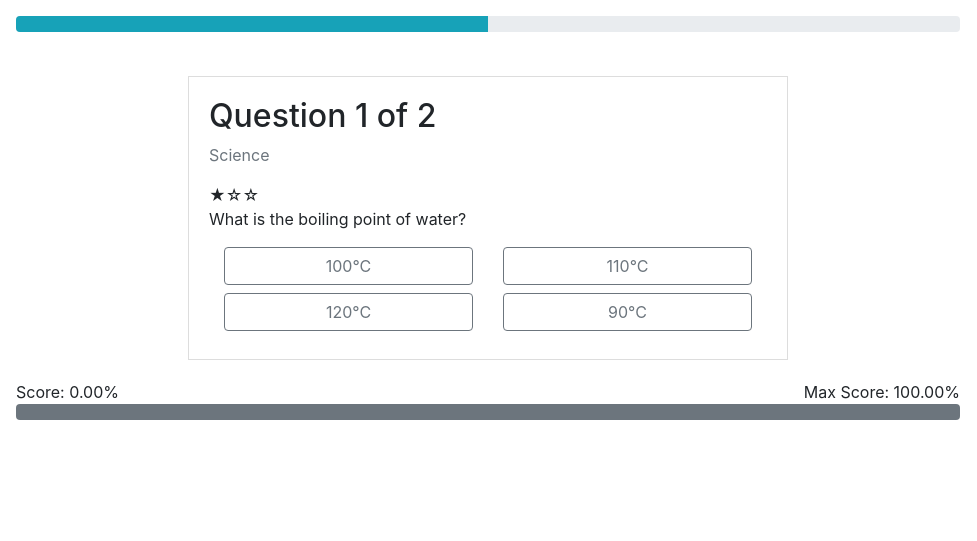
Test: QuestionComponent › displays the completion message at the end of the quiz
Click the button "100°C": (348, 266) [224, 247, 473, 285]
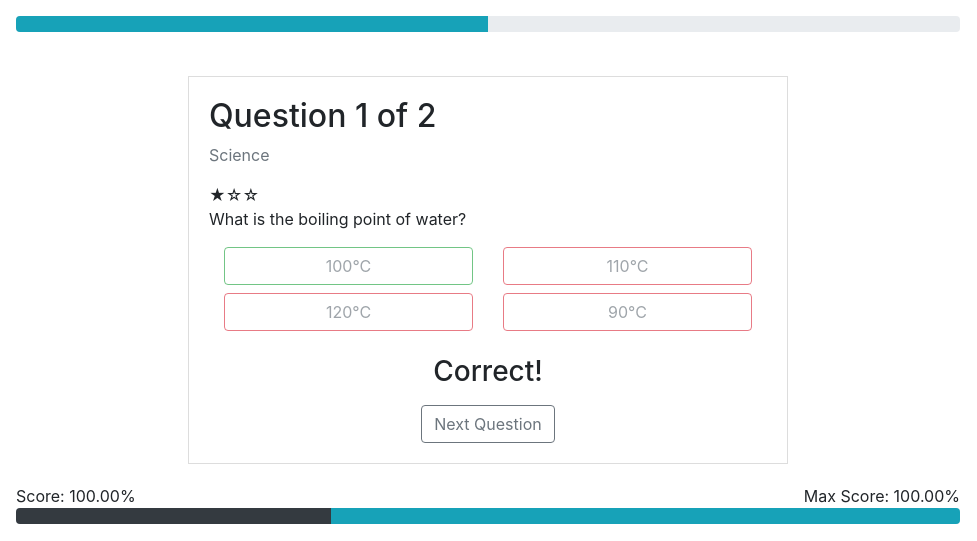
Click the button "Next Question": (488, 424) [421, 405, 555, 443]
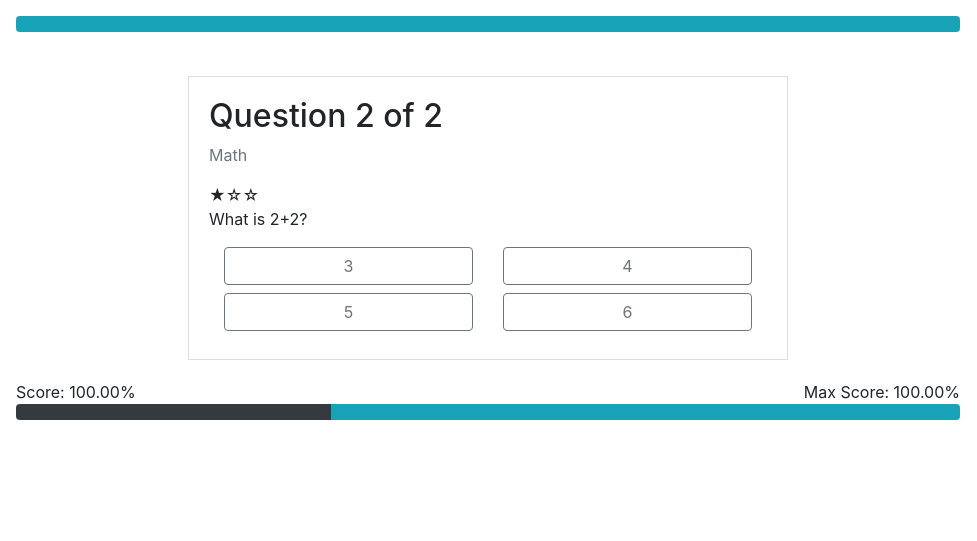
Click the button "4": (628, 266) [503, 247, 752, 285]
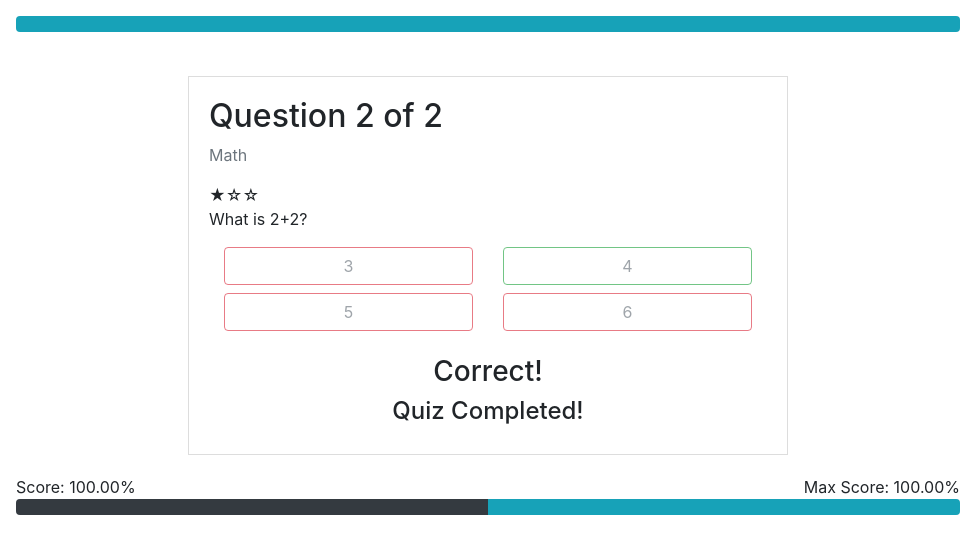
Result: the heading "Quiz Completed!" is shown at [392, 396, 584, 425]
